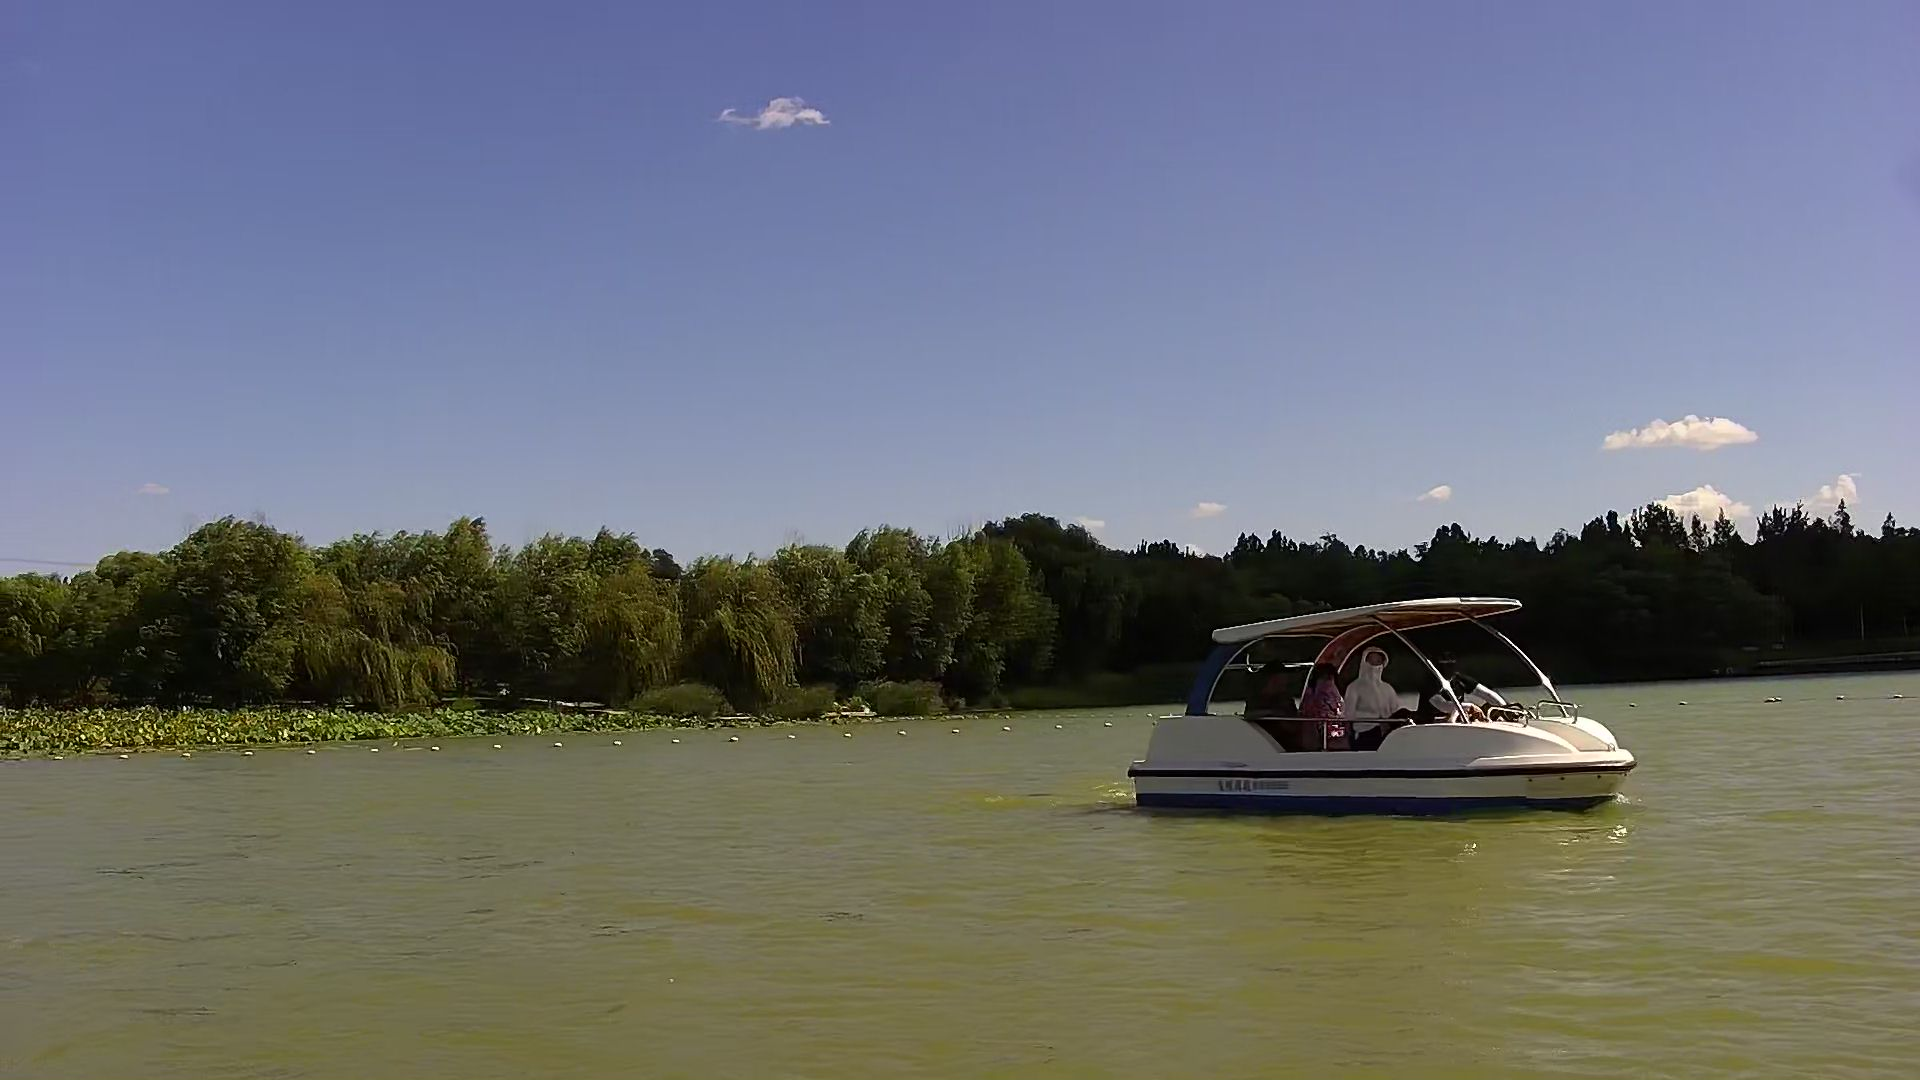boat: (1124, 585, 1640, 822)
